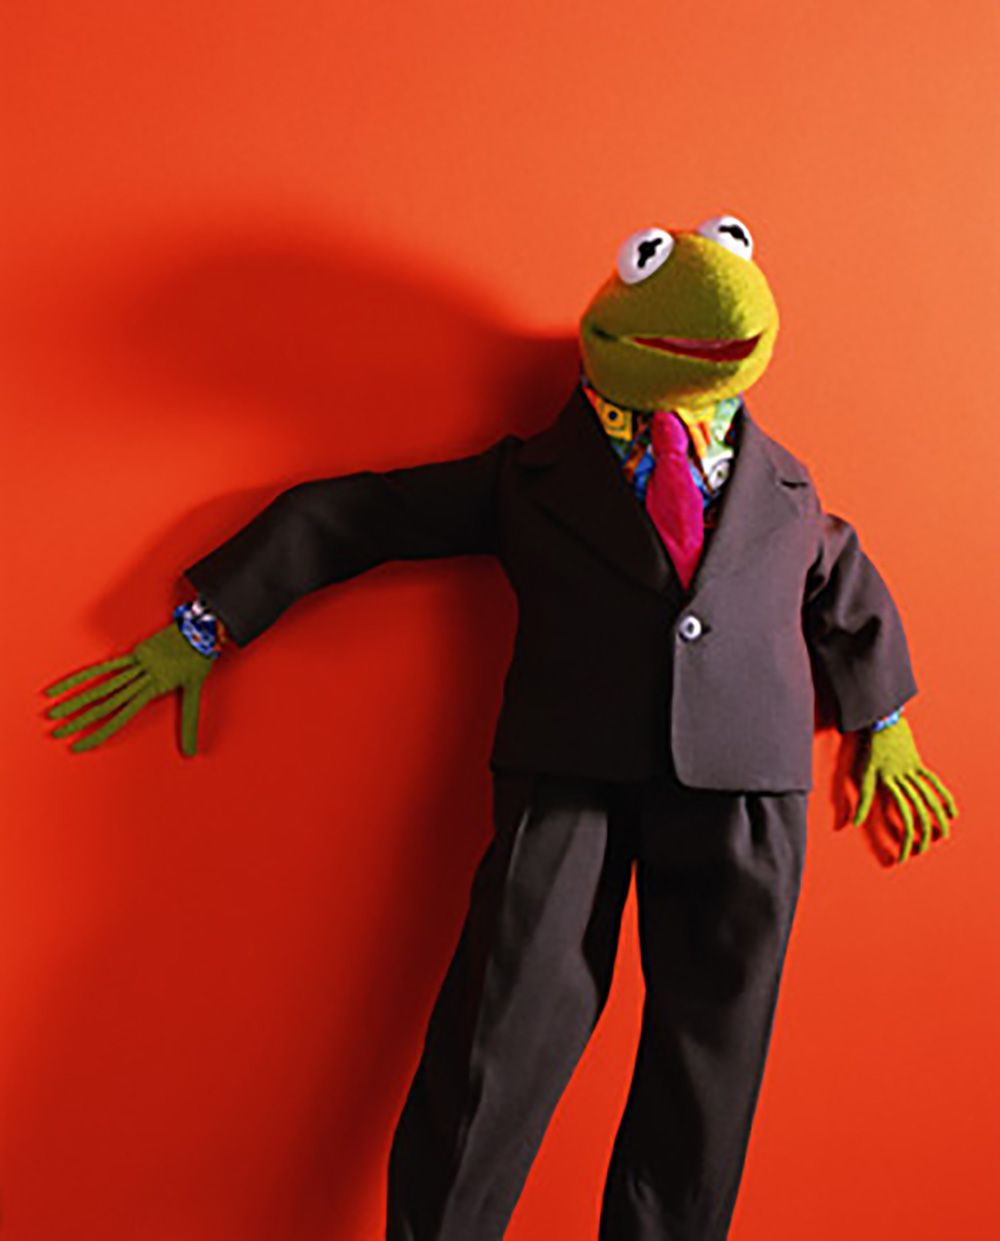kermit: (574, 208, 791, 427)
